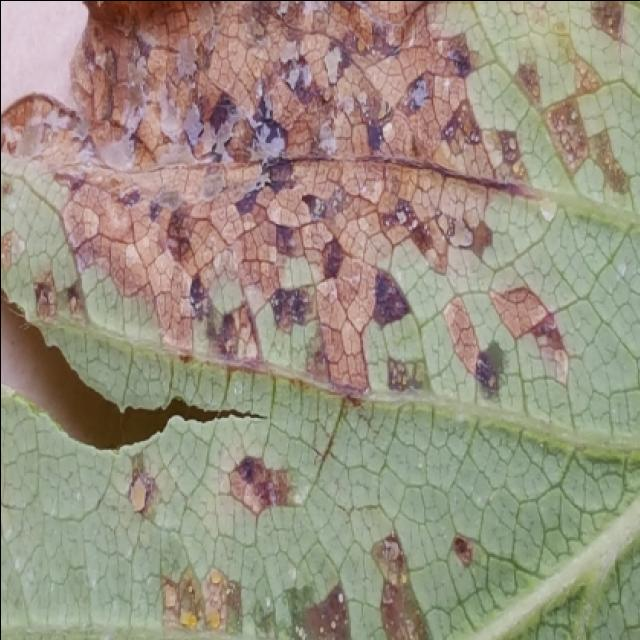Angular Leafspot: (0, 2, 638, 640)
